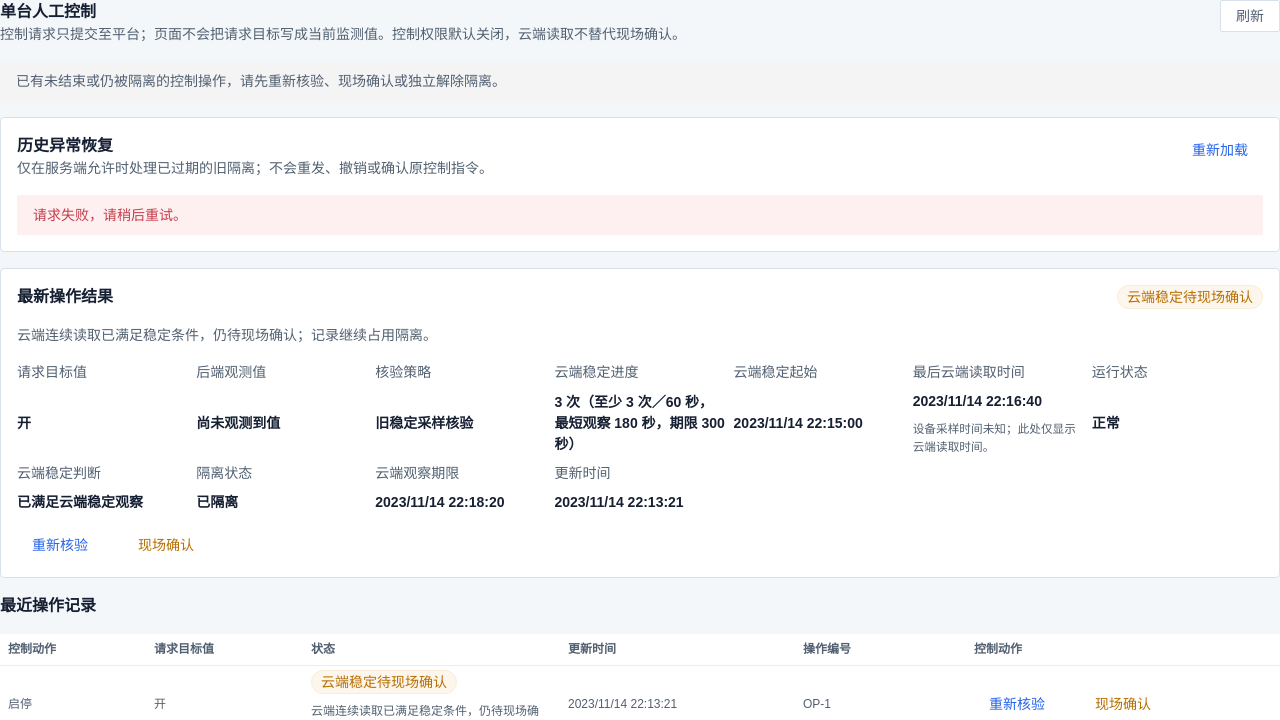
Test: 大金内机离线控制面板 › 保留旧云端稳定待现场确认记录的人工确认路径
Step 1. Click the button "现场确认" below "已满足云端稳定观察" → {"x": 166, "y": 545}, box x1=123 y1=529 x2=209 y2=561
(page scrolled)
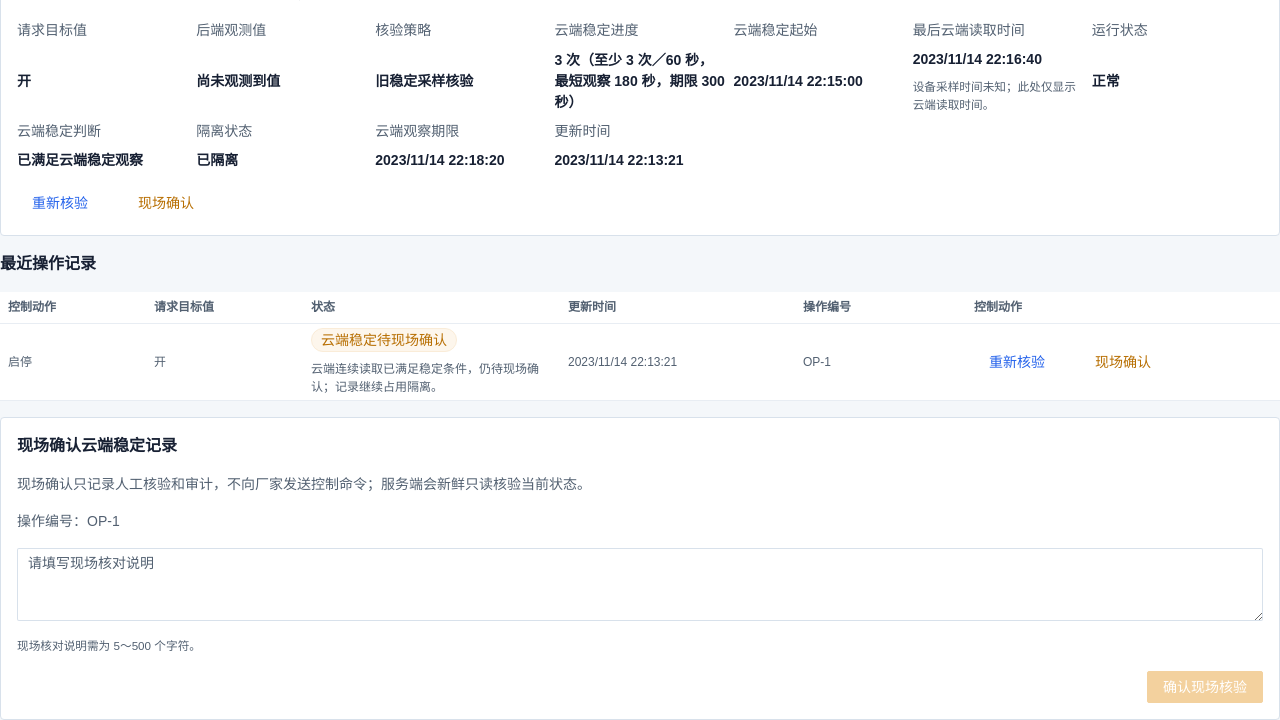
Step 2. Type "现场核对设备状态稳定" into the text box with placeholder "请填写现场核对说明" → {"x": 640, "y": 584}, box x1=17 y1=548 x2=1263 y2=621
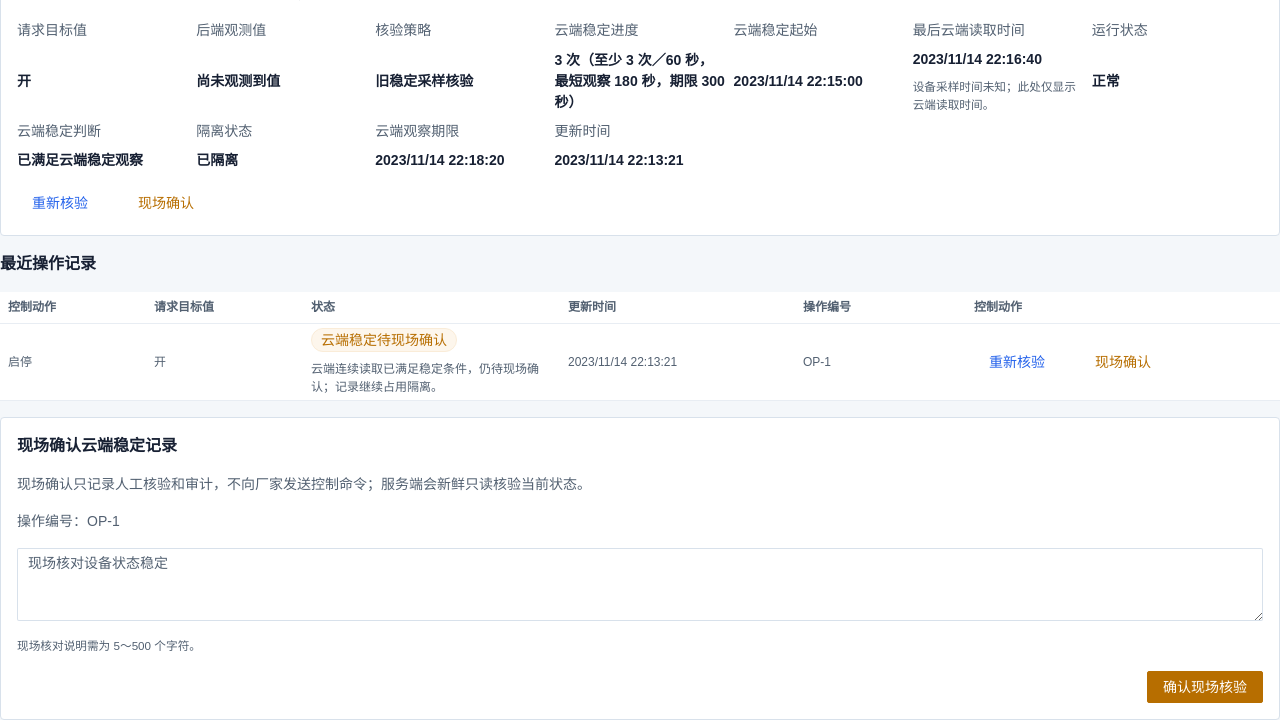
Step 3. Click the button "确认现场核验" → {"x": 1205, "y": 686}, box x1=1147 y1=670 x2=1263 y2=702
(page scrolled)
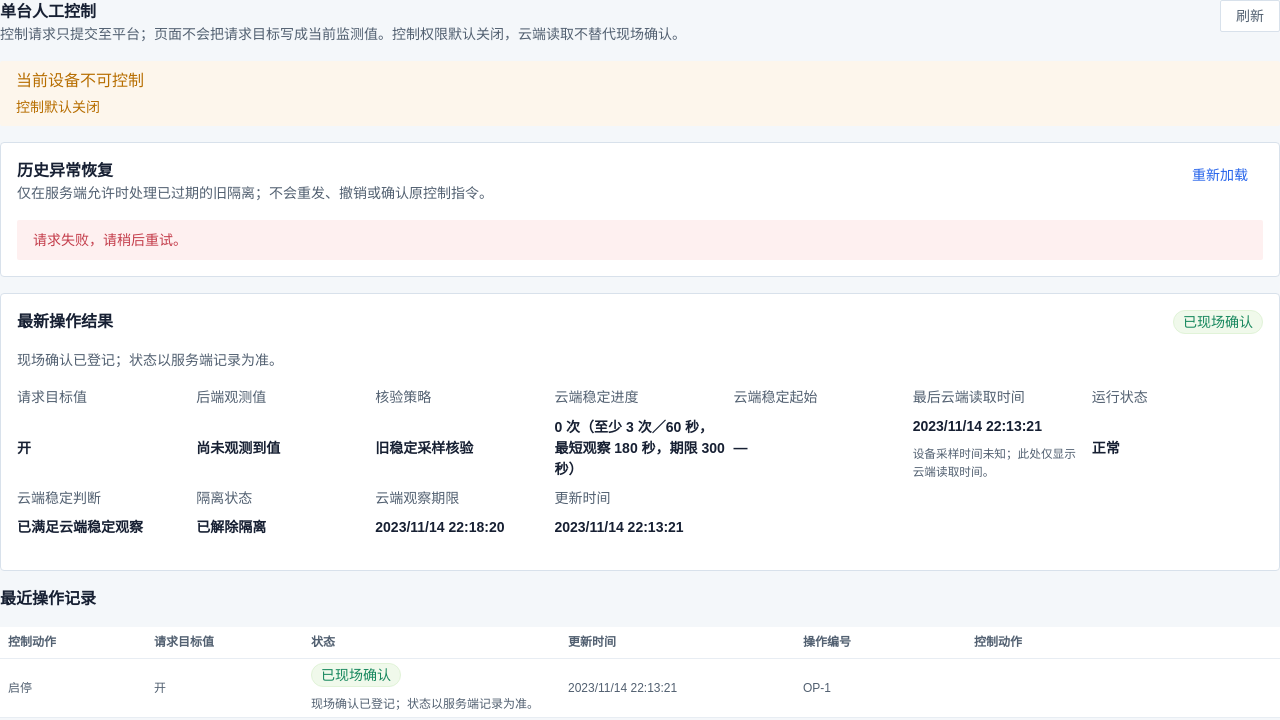
Expected: the text "已现场确认" is shown, x1=1183 y1=315 x2=1253 y2=329
